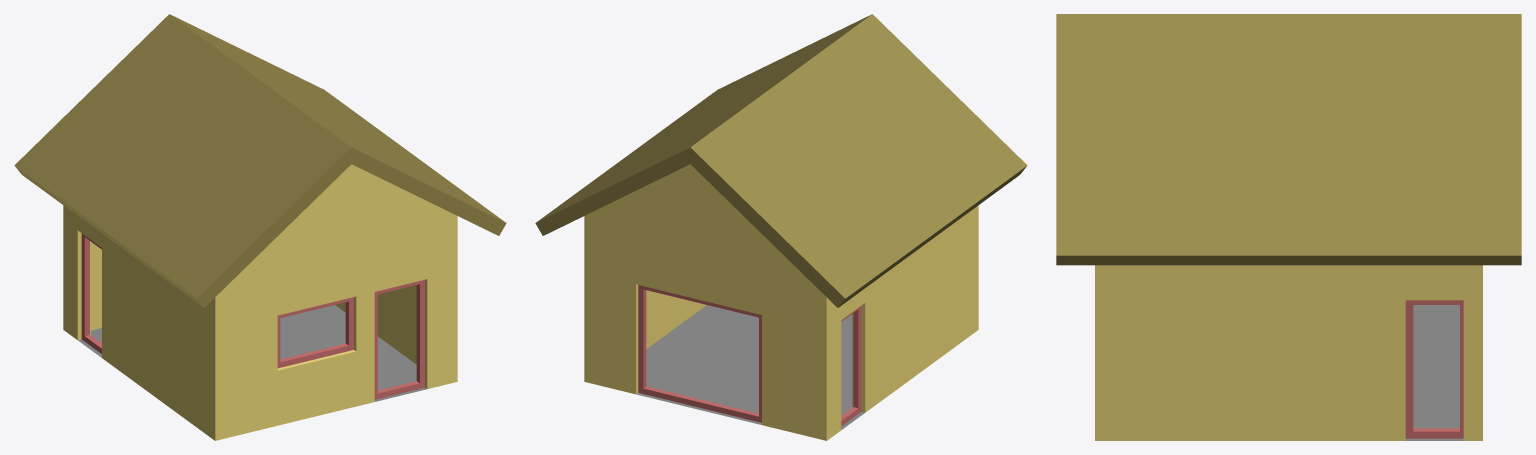
Rendered from result.glb.
The picture shows the model from 3 angles, left to right: view 1: azimuth 30°, elevation 25°; view 2: azimuth 150°, elevation 25°; view 3: azimuth 270°, elevation 25°; orthographic projection. The views are drawn at different scales.
Visible parts, largest first — view 1: 1eb39a6b-fb0c-413a-8af7-47d9f86271bb__undefined (×2), 26406636-943b-4284-b3e6-0450249febfc__undefined, f8725070-85e4-45a6-b279-75bf81765b27__Plane_6, 1f0cd567-344d-417c-89e0-a27e869e1318__Box, 0ab1ac80-8f5f-4ac4-90bb-71d3de46e26f__Box_3, b8c03064-598a-46f9-8c63-730d72906ffb__Box_12; view 2: 1eb39a6b-fb0c-413a-8af7-47d9f86271bb__undefined (×2), 26406636-943b-4284-b3e6-0450249febfc__undefined, f8725070-85e4-45a6-b279-75bf81765b27__Plane_6, 488f387b-3dc7-4f23-8fdc-925cbacd3d4c__Box_9, b8c03064-598a-46f9-8c63-730d72906ffb__Box_12; view 3: 1eb39a6b-fb0c-413a-8af7-47d9f86271bb__undefined, 26406636-943b-4284-b3e6-0450249febfc__undefined, f8725070-85e4-45a6-b279-75bf81765b27__Plane_6, 7d0adbfc-c713-4462-97c9-a3b599b2f889__Box_15.
Part boxes in pixels (x1,y1,x2,y2): 1eb39a6b-fb0c-413a-8af7-47d9f86271bb__undefined (×2): [14, 14, 506, 307]; 26406636-943b-4284-b3e6-0450249febfc__undefined: [63, 164, 457, 440]; f8725070-85e4-45a6-b279-75bf81765b27__Plane_6: [78, 305, 426, 401]; 1f0cd567-344d-417c-89e0-a27e869e1318__Box: [374, 280, 424, 399]; 0ab1ac80-8f5f-4ac4-90bb-71d3de46e26f__Box_3: [277, 297, 353, 368]; b8c03064-598a-46f9-8c63-730d72906ffb__Box_12: [81, 233, 101, 353]; 1eb39a6b-fb0c-413a-8af7-47d9f86271bb__undefined (×2): [535, 14, 1027, 307]; 26406636-943b-4284-b3e6-0450249febfc__undefined: [584, 164, 978, 440]; f8725070-85e4-45a6-b279-75bf81765b27__Plane_6: [636, 305, 864, 429]; 488f387b-3dc7-4f23-8fdc-925cbacd3d4c__Box_9: [638, 285, 761, 422]; b8c03064-598a-46f9-8c63-730d72906ffb__Box_12: [841, 305, 861, 425]; 1eb39a6b-fb0c-413a-8af7-47d9f86271bb__undefined: [1056, 14, 1521, 265]; 26406636-943b-4284-b3e6-0450249febfc__undefined: [1095, 265, 1482, 440]; f8725070-85e4-45a6-b279-75bf81765b27__Plane_6: [1405, 305, 1463, 440]; 7d0adbfc-c713-4462-97c9-a3b599b2f889__Box_15: [1405, 300, 1463, 438].
Size of the model in its own units: 590 by 500 by 600.
